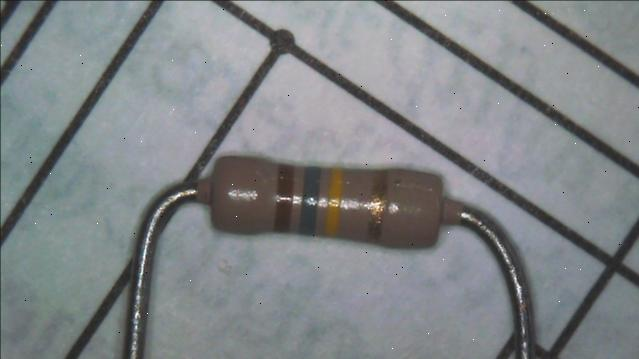brown: (277, 163, 293, 228)
gold: (370, 165, 386, 240)
grey: (302, 167, 318, 230)
resistor: (186, 148, 469, 273)
yellow: (327, 169, 341, 233)
